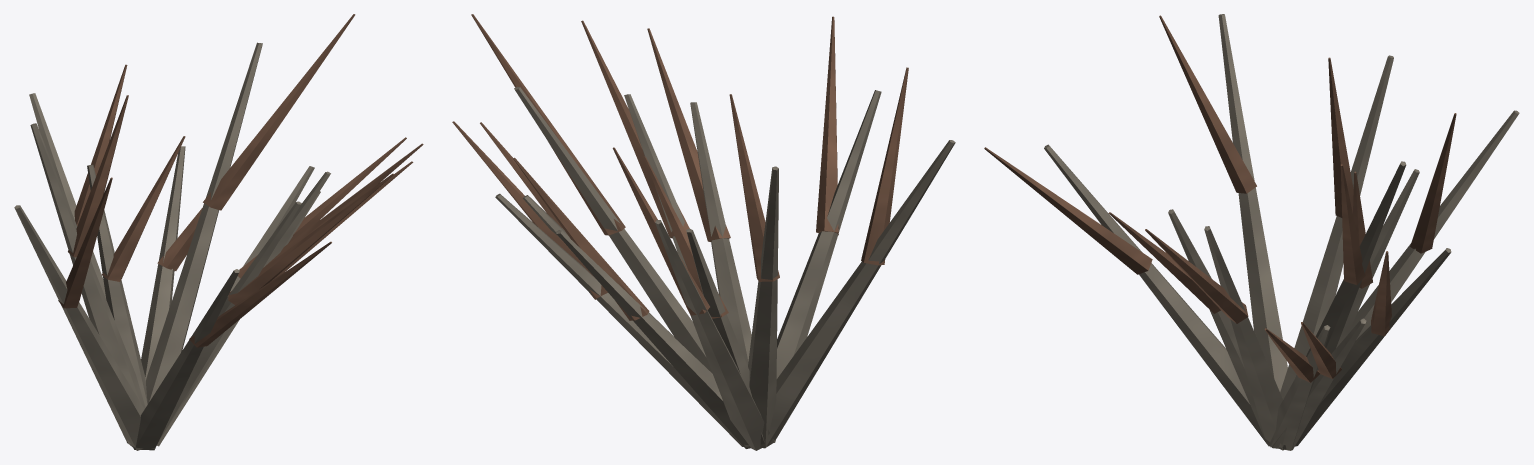
File: bush_dry_02.fbx
The picture shows the model from 3 angles, left to right: view 1: azimuth 30°, elevation 25°; view 2: azimuth 150°, elevation 25°; view 3: azimuth 270°, elevation 25°; orthographic projection. The views are drawn at different scales.
Parts seen in each view (by area): view 1: bush_dry_02; view 2: bush_dry_02; view 3: bush_dry_02.
Part boxes in pixels (x1,y1,x2,y2): bush_dry_02: [14, 14, 423, 450]; bush_dry_02: [452, 14, 955, 450]; bush_dry_02: [984, 14, 1519, 450].
Size of the model in its own units: 137 by 110 by 129.
1 material, 1 textured.
